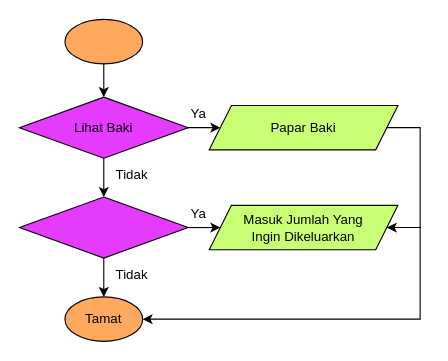
This 448x361 diagram has some shape labels left out. Here are the shapes that lost their labels. From the top down, the centre of each, then its label:
[103,41]: Mula
[103,227]: Pengluaran Wang
